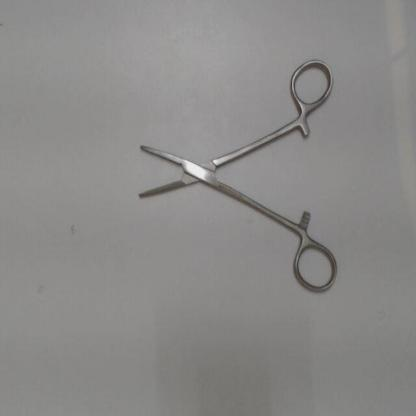Mayo Needle Holder: (134, 50, 342, 301)
